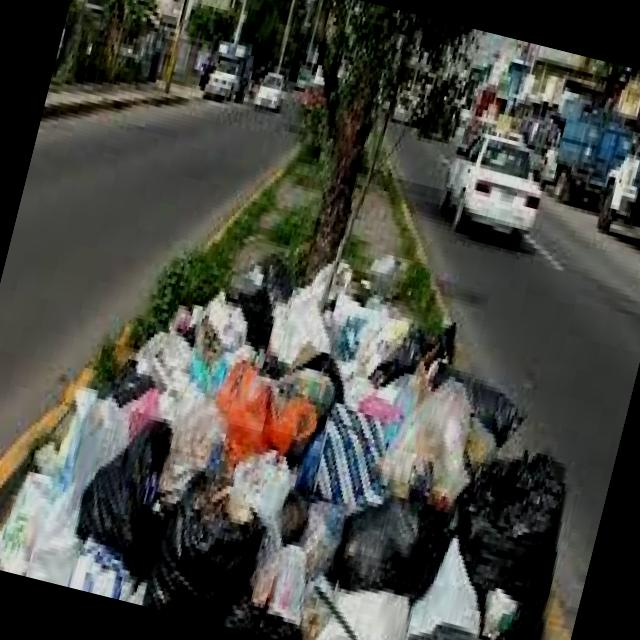garbage: (0, 186, 613, 640)
